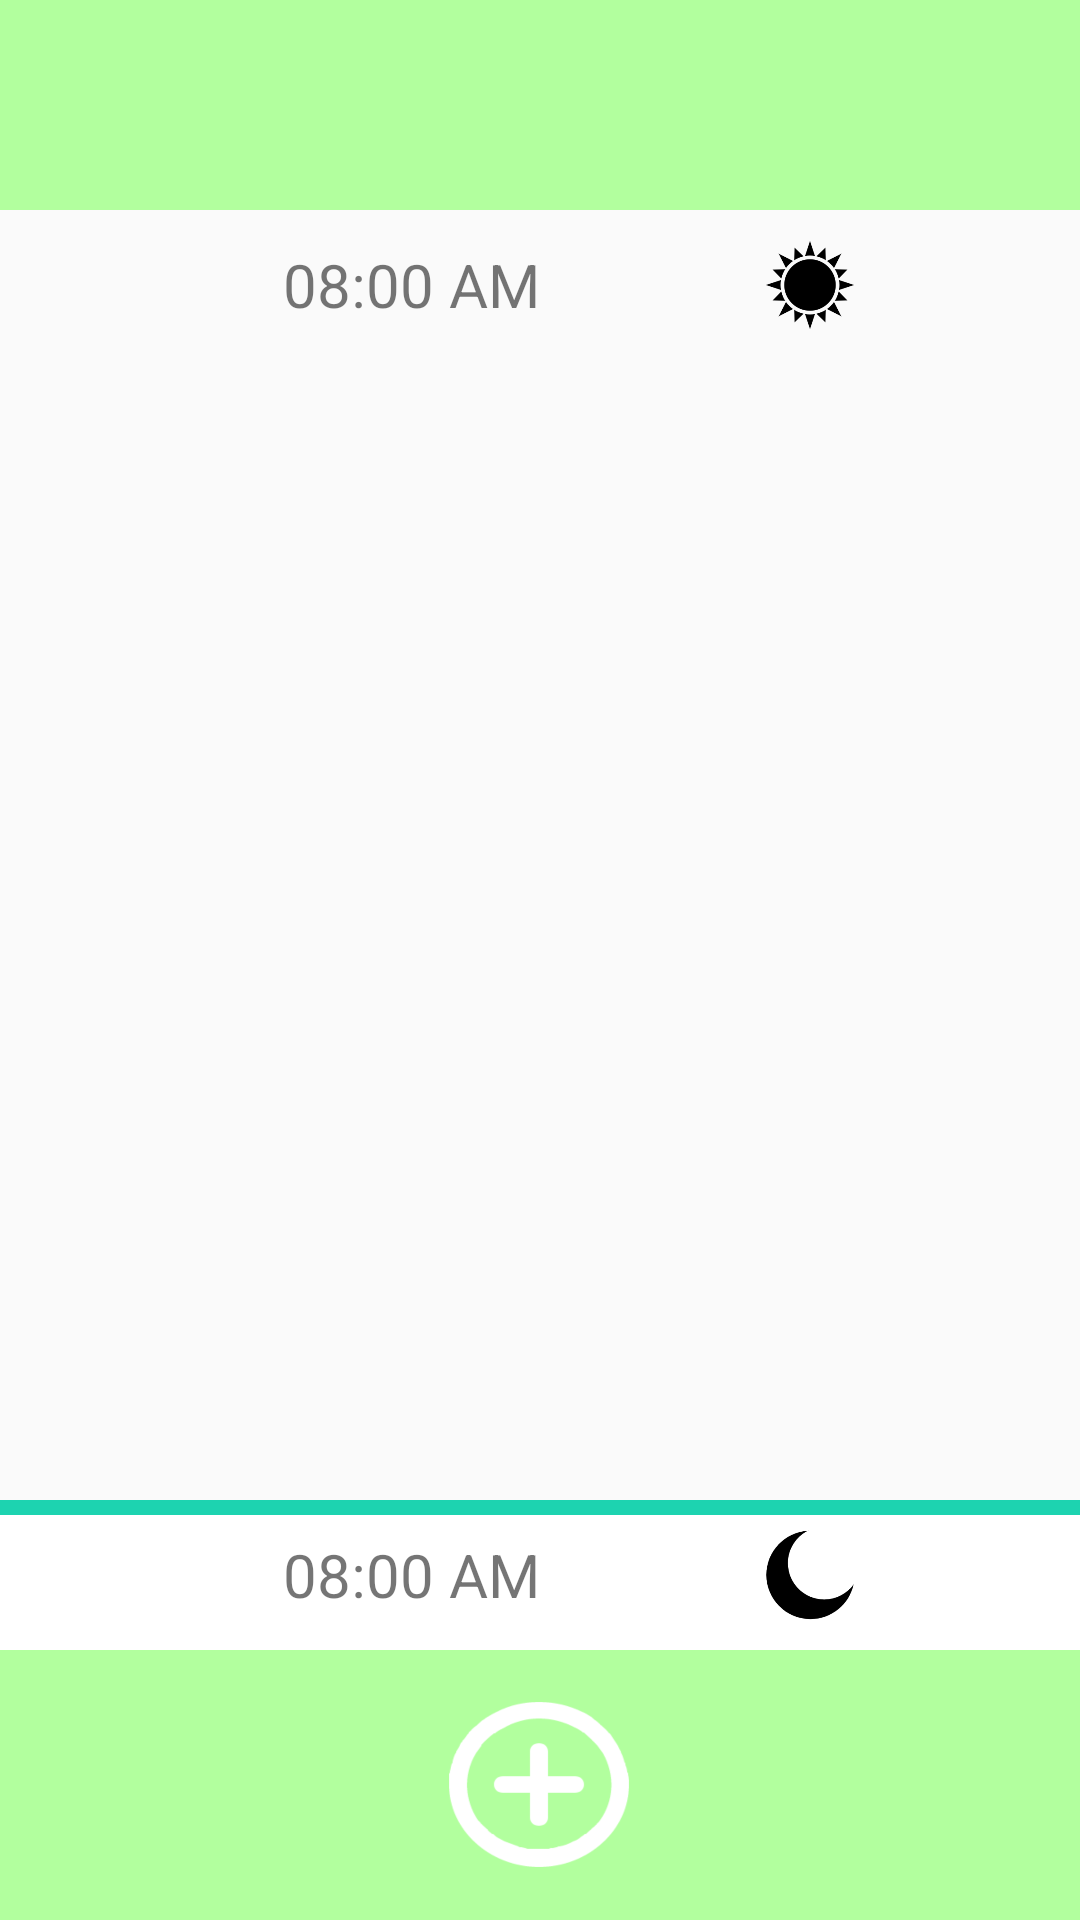

Icons on this 1080x1920 Android screen, each with the point to tap as (x,y):
add: (539,1784)
day: (810,285)
